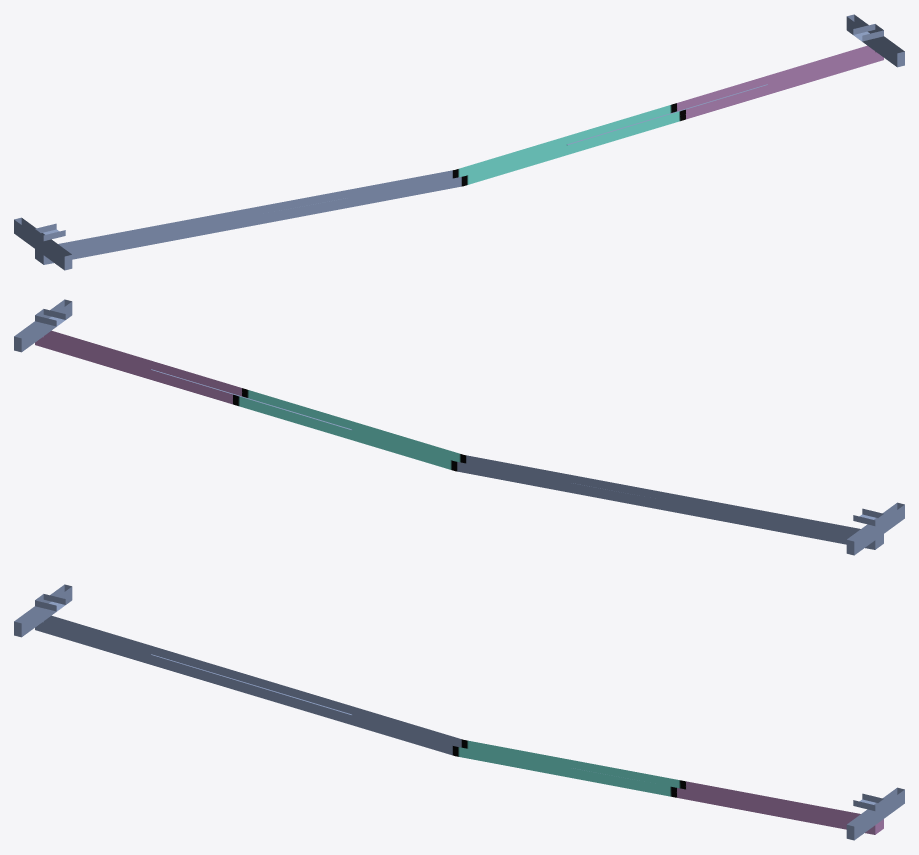
File: RoofLights.fbx
The picture shows the model from 3 angles, top to bottom: view 1: azimuth 30°, elevation 25°; view 2: azimuth 150°, elevation 25°; view 3: azimuth 330°, elevation 25°; orthographic projection.
Visible parts, largest first — view 1: TrainStation_PlatformRoof6; view 2: TrainStation_PlatformRoof6; view 3: TrainStation_PlatformRoof6.
Boxes of the visible parts, x1=… form: TrainStation_PlatformRoof6: x1=14, y1=14, x2=904, y2=270; TrainStation_PlatformRoof6: x1=14, y1=299, x2=904, y2=555; TrainStation_PlatformRoof6: x1=14, y1=584, x2=904, y2=840.
Bounding box in the file's own units: 652 × 39.56 × 68.1.
